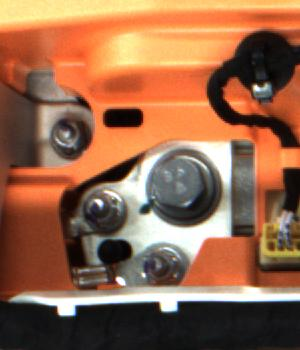nut_b: (140, 147, 222, 226)
screw_s: (135, 242, 191, 289), (75, 187, 124, 230), (45, 121, 83, 165)
